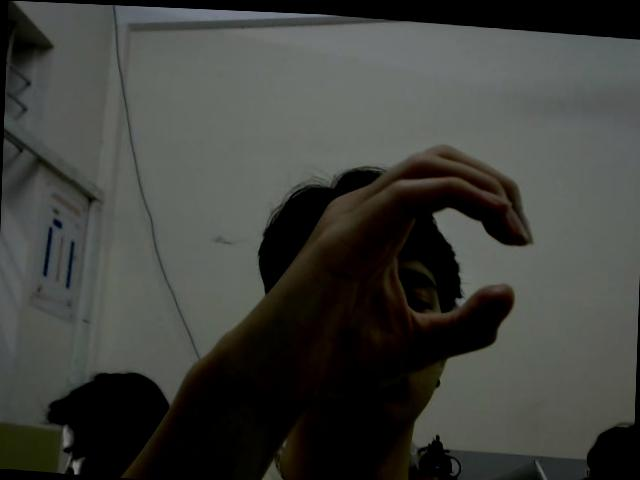C: (275, 127, 539, 409)
